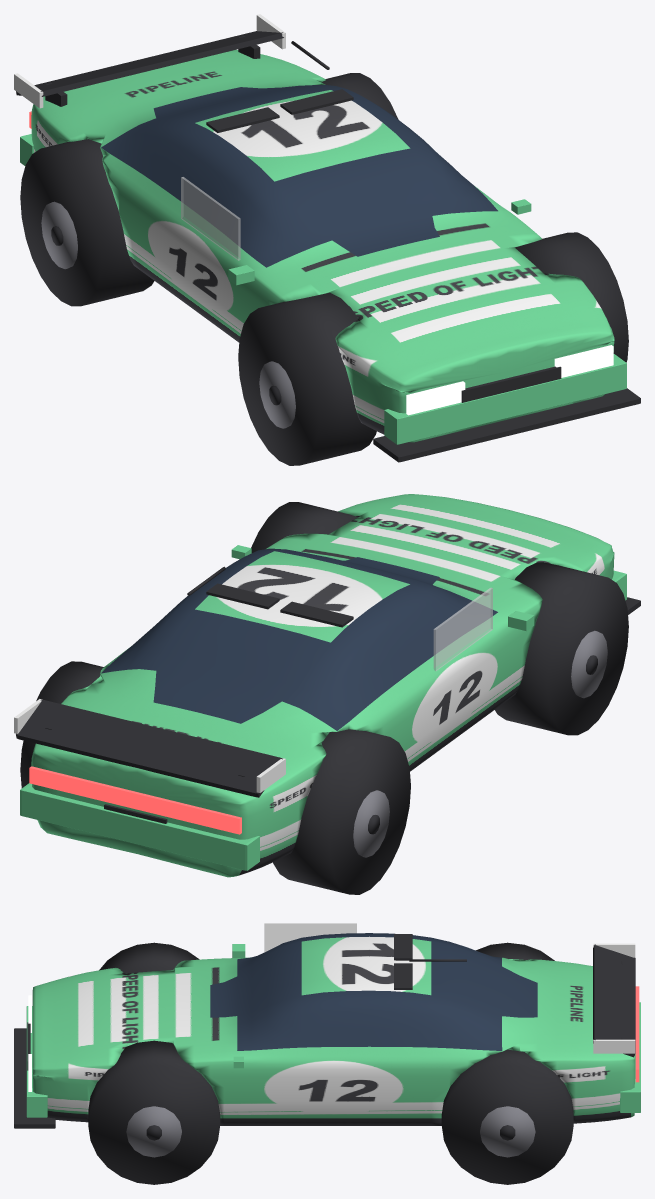
File: car_2.glb
The picture shows the model from 3 angles, top to bottom: view 1: azimuth 30°, elevation 25°; view 2: azimuth 150°, elevation 25°; view 3: azimuth 270°, elevation 25°; orthographic projection. The views are drawn at different scales.
Parts seen in each view (by area): view 1: body, cutter, cutter.002, bumperF, cutter.001, splitter, spoiler, net, dish.002, dish, grille, headlight (+4 smaller); view 2: body, cutter, cutter.002, spoiler, bumperR, tail, net, cutter.001, cutter.003, dish, dish.002, flap.001 (+2 smaller); view 3: body, cutter.001, cutter.003, spoiler, dish.003, dish.001, cutter, splitter, net, cutter.002, bumperF, bumperR (+4 smaller).
Boxes of the visible parts, bbox=[...] form: body: bbox=[31, 50, 614, 442]; cutter: bbox=[238, 292, 376, 465]; cutter.002: bbox=[20, 139, 154, 306]; bumperF: bbox=[384, 354, 626, 444]; cutter.001: bbox=[515, 232, 628, 362]; splitter: bbox=[373, 388, 640, 462]; spoiler: bbox=[16, 31, 283, 96]; net: bbox=[181, 177, 240, 260]; dish.002: bbox=[41, 201, 77, 269]; dish: bbox=[259, 361, 295, 428]; grille: bbox=[461, 366, 561, 402]; headlight: bbox=[406, 381, 465, 415]; body: bbox=[31, 494, 614, 877]; cutter: bbox=[495, 562, 628, 735]; cutter.002: bbox=[273, 729, 410, 894]; spoiler: bbox=[16, 699, 282, 797]; bumperR: bbox=[20, 783, 259, 870]; tail: bbox=[29, 766, 241, 834]; net: bbox=[433, 587, 492, 671]; cutter.001: bbox=[251, 502, 357, 552]; cutter.003: bbox=[20, 661, 103, 788]; dish: bbox=[571, 630, 607, 698]; dish.002: bbox=[353, 790, 389, 857]; flap.001: bbox=[206, 583, 279, 609]; body: bbox=[32, 933, 635, 1125]; cutter.001: bbox=[88, 1040, 220, 1184]; cutter.003: bbox=[441, 1049, 573, 1184]; spoiler: bbox=[593, 944, 635, 1057]; dish.003: bbox=[480, 1106, 535, 1157]; dish.001: bbox=[126, 1106, 181, 1157]; cutter: bbox=[99, 942, 199, 973]; splitter: bbox=[14, 1028, 55, 1128]; net: bbox=[264, 923, 356, 952]; cutter.002: bbox=[476, 942, 554, 960]; bumperF: bbox=[26, 1006, 47, 1117]; bumperR: bbox=[620, 1002, 640, 1112].
Bounding box in the file's own units: 2.58 × 1.76 × 5.41.
Materials: 11 (1 with a texture image).
